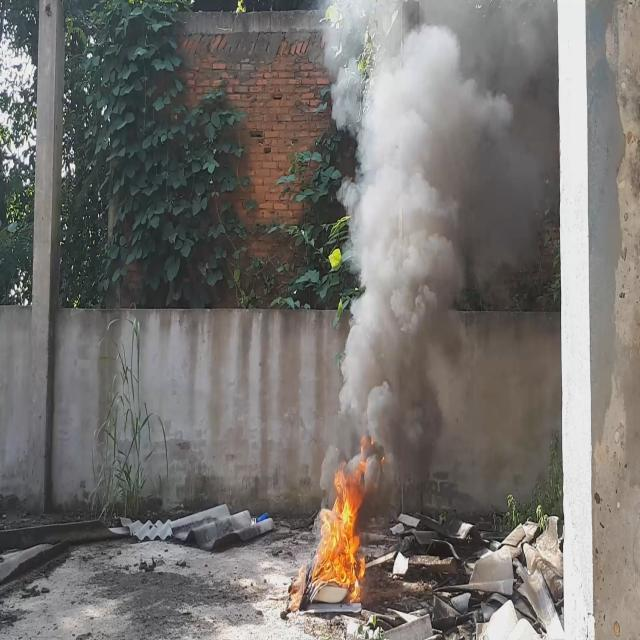Fire: (314, 464, 371, 590)
Smoke: (297, 0, 558, 503)
